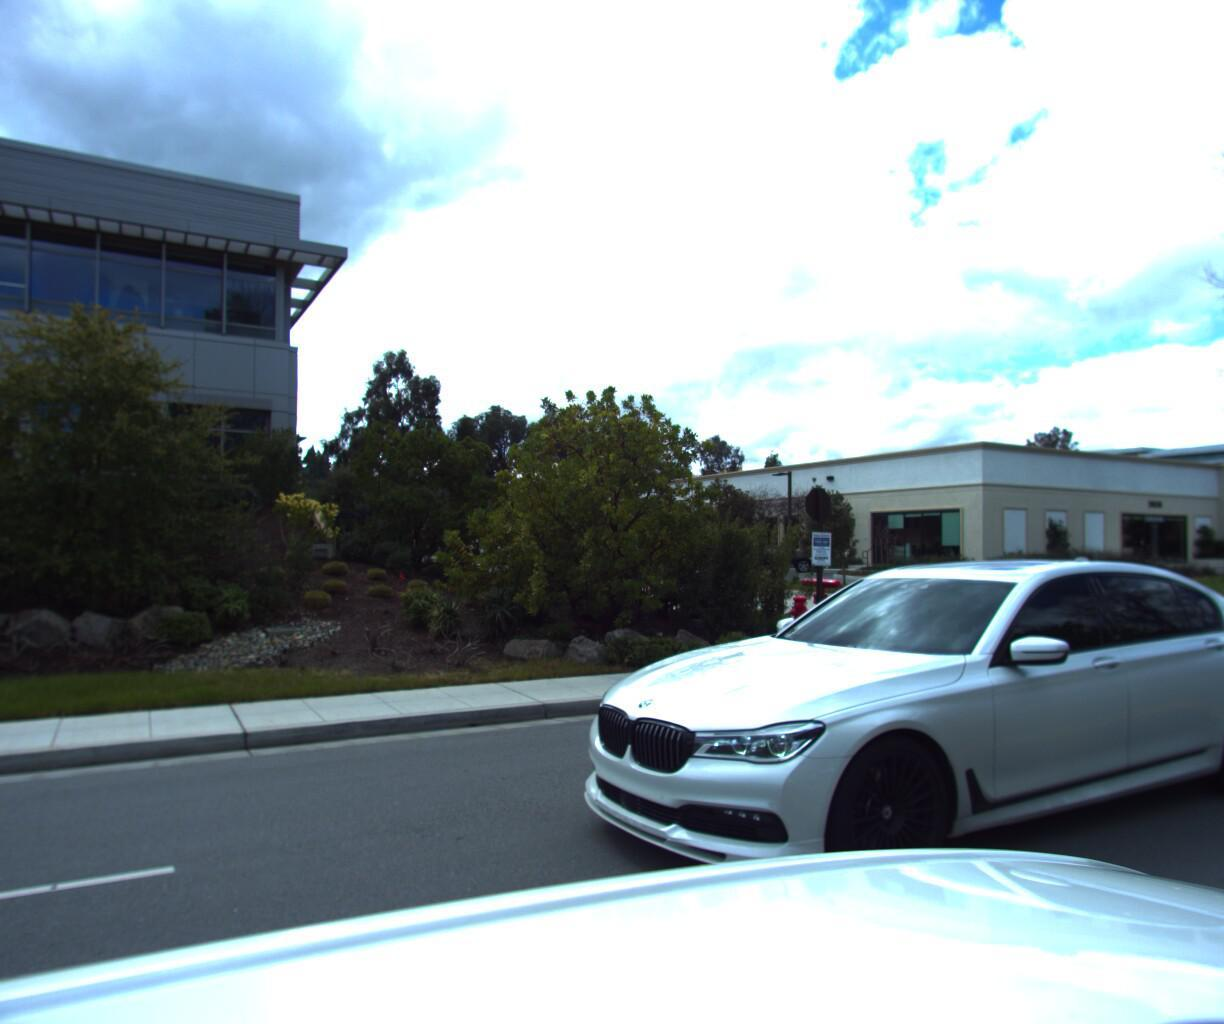car: (566, 558, 1224, 963)
